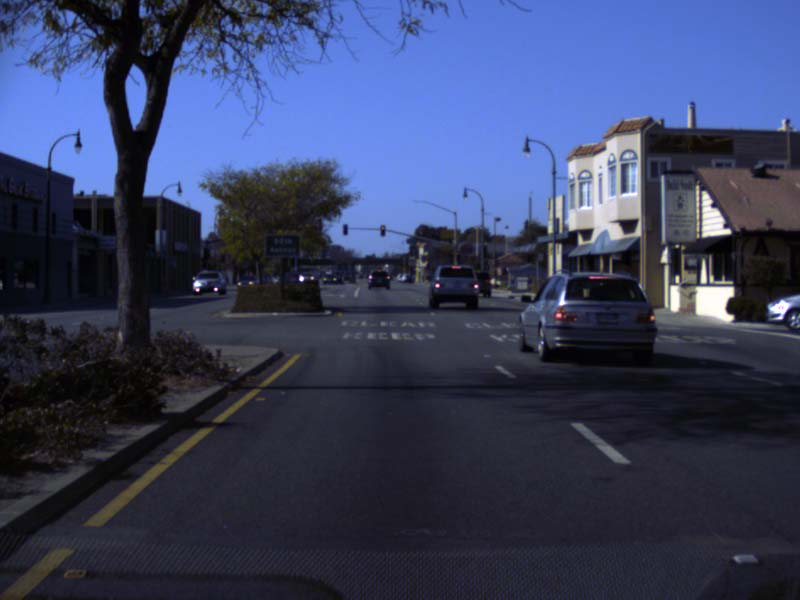Red: (380, 224, 385, 237)
